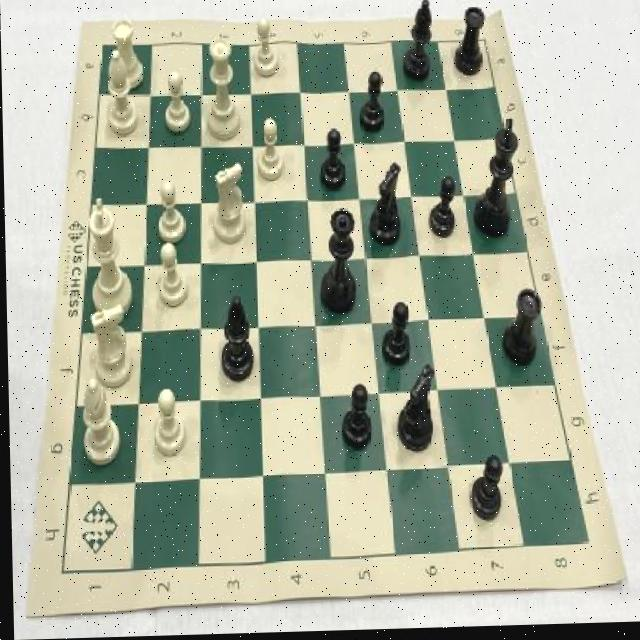bishop: (215, 294, 255, 390), (399, 1, 435, 90)
black-bishop: (471, 114, 524, 241)
black-king: (393, 355, 437, 461), (365, 160, 405, 253)
black-knight: (463, 455, 503, 528), (336, 381, 371, 458), (378, 297, 412, 370), (355, 68, 388, 140), (425, 177, 458, 245), (316, 126, 348, 195)
black-pawn: (316, 201, 358, 321)
black-queen: (499, 287, 545, 381), (451, 4, 488, 86)
black-rook: (74, 378, 123, 470), (101, 46, 141, 142)
white-bishop: (82, 191, 132, 323)
white-king: (90, 302, 130, 392), (209, 162, 245, 248)
white-knight: (145, 385, 187, 460), (153, 242, 192, 313), (154, 179, 188, 248), (253, 118, 287, 186), (250, 13, 282, 84), (161, 68, 193, 138)
white-pawn: (201, 33, 244, 146)
white-queen: (108, 14, 146, 95)
